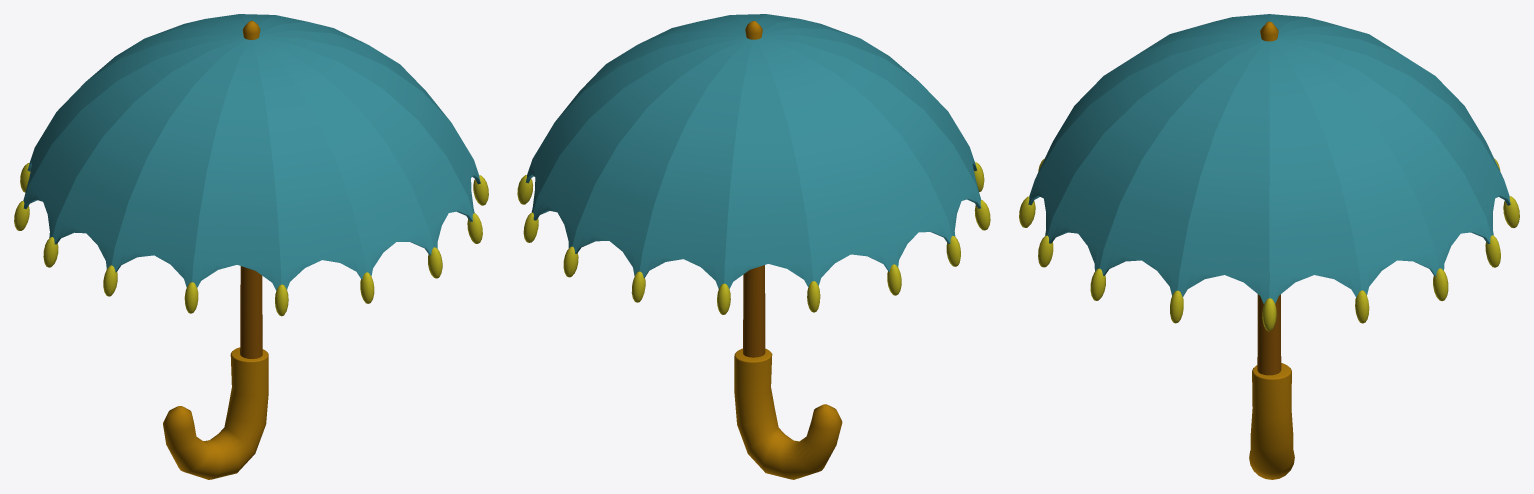
Rendered from Umbrella4.fbx.
3 views of the same model, side by side, from view 1: azimuth 30°, elevation 25°; view 2: azimuth 150°, elevation 25°; view 3: azimuth 270°, elevation 25° (orthographic). The views are drawn at different scales.
Visible parts, largest first — view 1: umbrella; view 2: umbrella; view 3: umbrella.
Part boxes in pixels (box(x1,y1,x2,y2)): umbrella: box(14, 14, 488, 479); umbrella: box(517, 14, 990, 479); umbrella: box(1019, 14, 1519, 479).
Size of the model in its own units: 6.12 by 6.3 by 6.12.
